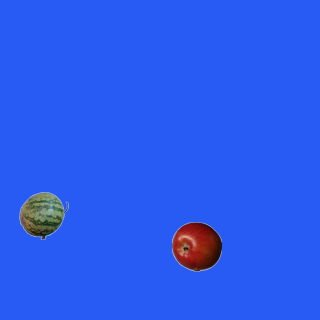Apple Braeburn: (171, 221, 221, 271)
Watermelon: (18, 190, 68, 240)
